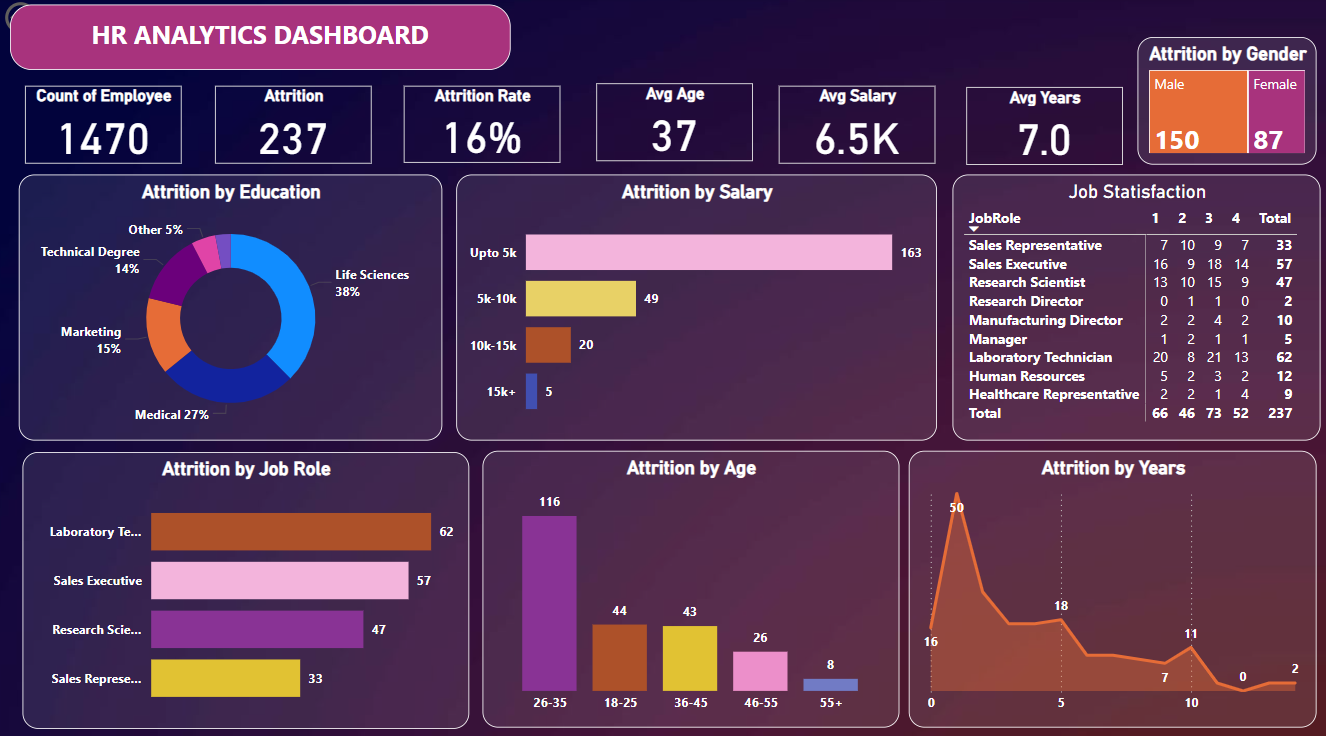

What the dashboard file says about the page in this screenshot:
{"tool":"powerbi","page":{"name":"Page 1","canvas":[1280,720],"ordinal":0},"visuals":[{"type":"card","title":"Count of Employee","fields":{"Values":["CountNonNull(HR_Analytics.EmpID)"]},"box":[24.7,85.1,150.9,75.5],"z":0},{"type":"card","title":"Attrition","fields":{"Values":["Sum(HR_Analytics.AttritionCount)"]},"box":[207.2,85.1,150.9,75.5],"z":1000},{"type":"card","title":"Attrition Rate","fields":{"Values":["HR_Analytics.AttritionRate"]},"box":[389.7,85.1,150.9,74.1],"z":2000},{"type":"card","title":"Avg Age","fields":{"Values":["Avg(HR_Analytics.Age)"]},"box":[575,83.7,150.9,75.5],"z":3000},{"type":"actionButton","box":[0,0,100.2,39.8],"z":4000},{"type":"card","title":"Avg Salary","fields":{"Values":["Avg(HR_Analytics.MonthlyIncome)"]},"box":[752,85.1,150.9,75.5],"z":5000},{"type":"card","title":"Avg Years","fields":{"Values":["Avg(HR_Analytics.YearsAtCompany)"]},"box":[933.1,86.4,150.9,75.5],"z":6000},{"type":"donutChart","title":"Attrition by Education","fields":{"Y":["Sum(HR_Analytics.AttritionCount)"],"Category":["HR_Analytics.EducationField"]},"box":[17.8,171.5,408.9,256.6],"z":7000},{"type":"columnChart","title":"Attrition by Age","fields":{"Category":["HR_Analytics.AgeGroup"],"Y":["Sum(HR_Analytics.AttritionCount)"]},"box":[465.2,437.7,402.1,267.6],"z":8000},{"type":"pivotTable","title":"Job Statisfaction","fields":{"Rows":["HR_Analytics.JobRole"],"Columns":["HR_Analytics.JobSatisfaction"],"Values":["Sum(HR_Analytics.AttritionCount)"]},"box":[919.4,171.5,355.4,256.6],"z":9000},{"type":"clusteredBarChart","title":"Attrition by Salary","fields":{"Category":["HR_Analytics.SalarySlab"],"Y":["Sum(HR_Analytics.AttritionCount)"]},"box":[440.5,171.5,463.8,256.6],"z":10000},{"type":"clusteredBarChart","title":"Attrition by Job Role","fields":{"Y":["Sum(HR_Analytics.AttritionCount)"],"Category":["HR_Analytics.JobRole"]},"box":[22,439.1,430.9,267.6],"z":11000},{"type":"areaChart","title":"Attrition by Years","fields":{"Category":["HR_Analytics.YearsAtCompany"],"Y":["Sum(HR_Analytics.AttritionCount)"]},"box":[876.8,437.7,393.8,267.6],"z":12000},{"type":"treemap","title":"Attrition by Gender","fields":{"Values":["Sum(HR_Analytics.AttritionCount)"],"Group":["HR_Analytics.Gender"]},"box":[1097.8,38.4,172.9,123.5],"z":13000},{"type":"textbox","box":[9.6,6.9,483,63.1],"z":14000}]}

Visuals, with their boxes in screenshot pixels (x1, y1, x2, y2), scaled from the page's 1280x720 canvas onto the 1326x736 screenshot:
"Count of Employee" card: left=26, top=87, right=182, bottom=164
"Attrition" card: left=215, top=87, right=371, bottom=164
"Attrition Rate" card: left=404, top=87, right=560, bottom=163
"Avg Age" card: left=596, top=86, right=752, bottom=163
actionButton: left=0, top=0, right=104, bottom=41
"Avg Salary" card: left=779, top=87, right=935, bottom=164
"Avg Years" card: left=967, top=88, right=1123, bottom=165
"Attrition by Education" donutChart: left=18, top=175, right=442, bottom=438
"Attrition by Age" columnChart: left=482, top=447, right=898, bottom=721
"Job Statisfaction" pivotTable: left=952, top=175, right=1321, bottom=438
"Attrition by Salary" clusteredBarChart: left=456, top=175, right=937, bottom=438
"Attrition by Job Role" clusteredBarChart: left=23, top=449, right=469, bottom=722
"Attrition by Years" areaChart: left=908, top=447, right=1316, bottom=721
"Attrition by Gender" treemap: left=1137, top=39, right=1316, bottom=165
textbox: left=10, top=7, right=510, bottom=72
